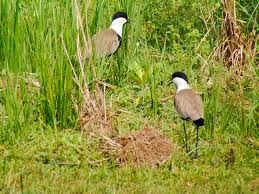bird: (162, 68, 205, 159), (76, 9, 130, 75)
